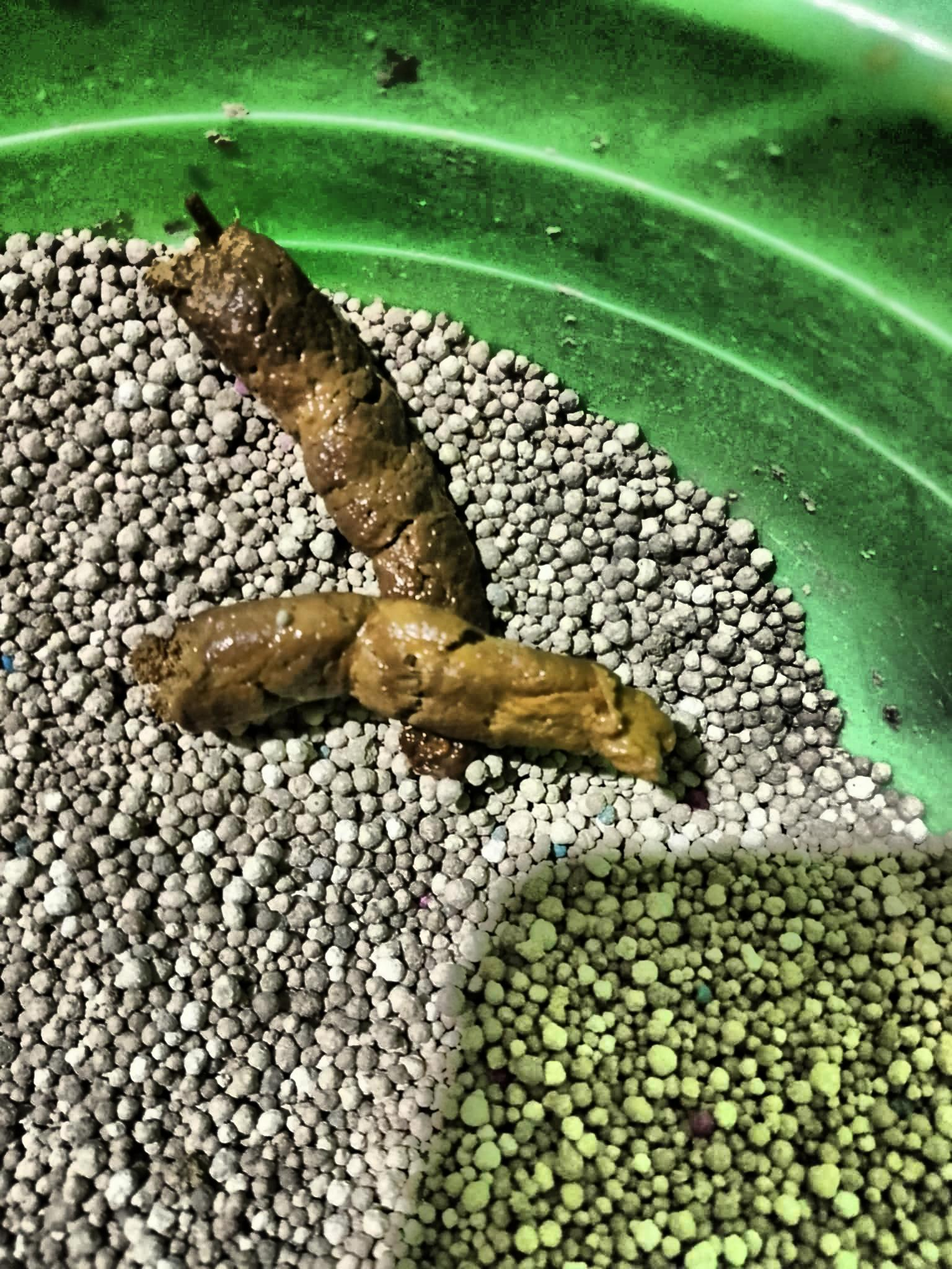poop: (146, 222, 490, 630), (130, 592, 675, 780), (400, 727, 477, 779)
